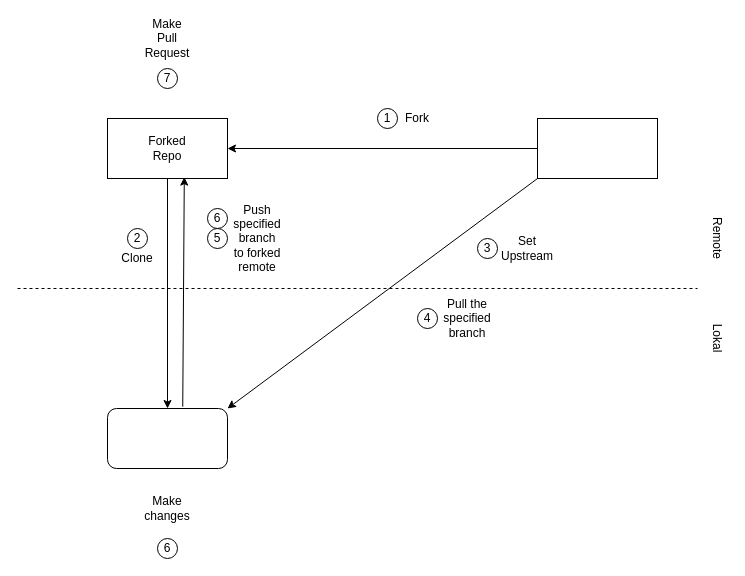
Some shapes in this 745 by 576 pixel diagram are drawn without their labels. Each missing label, with the centre of its shape:
Local Working Directory: point 167,438
Original: point 597,148
